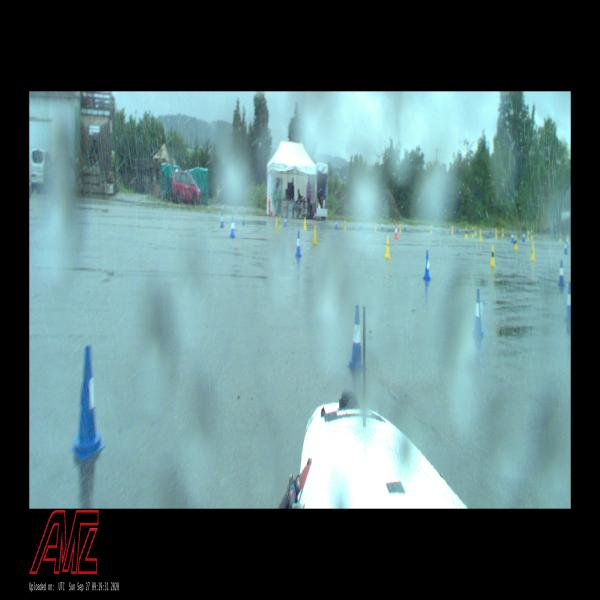blue_cone: (74, 346, 100, 455), (350, 305, 363, 370), (473, 288, 483, 337), (565, 283, 571, 320), (558, 260, 565, 286), (424, 250, 430, 280), (296, 232, 301, 256), (230, 216, 235, 238), (220, 212, 224, 228), (564, 241, 568, 254), (242, 213, 245, 225), (511, 231, 514, 242), (522, 231, 525, 242), (284, 216, 287, 226), (359, 219, 361, 230), (335, 219, 337, 229), (381, 222, 383, 231), (404, 222, 406, 231), (490, 226, 492, 235), (456, 225, 458, 232)
orange_cone: (394, 224, 398, 239)
yellow_cone: (385, 236, 390, 258), (490, 245, 495, 266), (313, 225, 317, 244), (531, 243, 535, 260), (514, 235, 518, 249), (275, 217, 278, 234), (464, 227, 468, 237), (479, 229, 482, 241), (451, 224, 454, 234), (399, 223, 402, 232), (527, 229, 529, 241), (304, 217, 306, 229), (279, 216, 281, 228), (344, 219, 346, 230), (496, 228, 498, 238), (502, 228, 504, 236), (374, 223, 376, 231), (474, 227, 476, 235), (430, 225, 432, 233), (531, 230, 533, 238), (472, 226, 473, 237), (560, 232, 561, 241)
